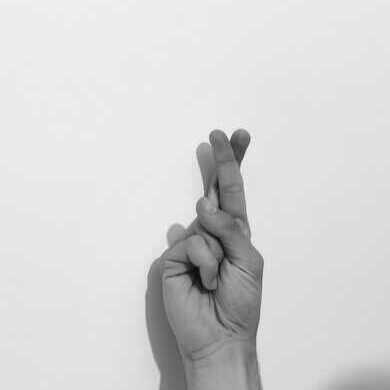R: (158, 128, 265, 360)
